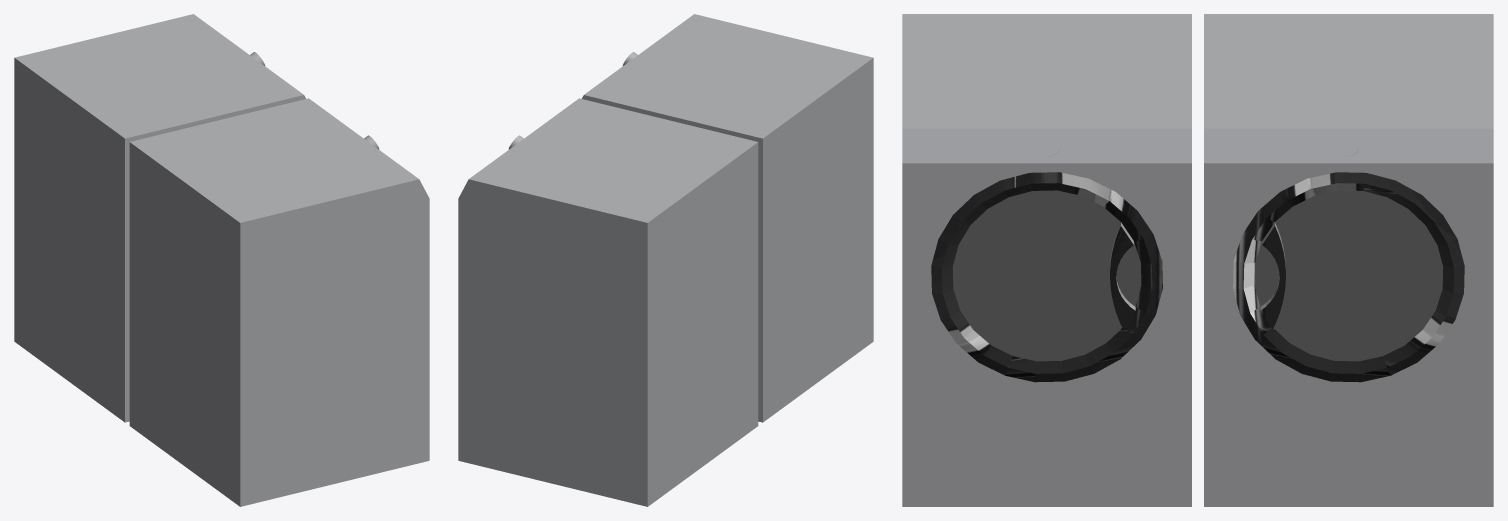
The picture shows the model from 3 angles, left to right: view 1: azimuth 30°, elevation 25°; view 2: azimuth 150°, elevation 25°; view 3: azimuth 270°, elevation 25°; orthographic projection. The views are drawn at different scales.
Parts seen in each view (by area): view 1: mesh2_mesh2-geometry, mesh1_mesh1-geometry; view 2: mesh1_mesh1-geometry, mesh2_mesh2-geometry; view 3: mesh2_mesh2-geometry, mesh1_mesh1-geometry.
Boxes of the visible parts, bbox=[...] form: mesh2_mesh2-geometry: bbox=[129, 98, 429, 506]; mesh1_mesh1-geometry: bbox=[14, 14, 305, 422]; mesh1_mesh1-geometry: bbox=[458, 98, 758, 506]; mesh2_mesh2-geometry: bbox=[582, 14, 873, 422]; mesh2_mesh2-geometry: bbox=[902, 14, 1191, 506]; mesh1_mesh1-geometry: bbox=[1204, 14, 1493, 506].
Bounding box in the file's own units: 0.3761 × 0.529 × 0.7607.
